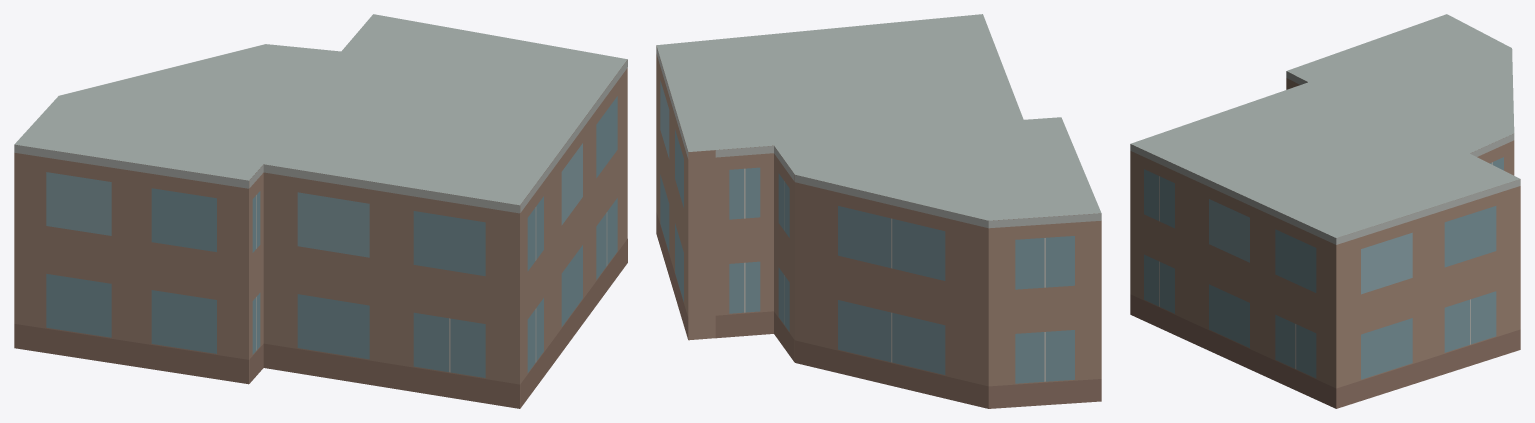
Rendered from survey-upis-32753231.glb.
3 renders of one model, left to right at view 1: azimuth 30°, elevation 25°; view 2: azimuth 150°, elevation 25°; view 3: azimuth 270°, elevation 25°, orthographic. The views are drawn at different scales.
Visible parts, largest first — view 1: survey-upis-32753231.tmp; view 2: survey-upis-32753231.tmp; view 3: survey-upis-32753231.tmp.
Part boxes in pixels (x1=…): survey-upis-32753231.tmp: x1=14, y1=14, x2=627, y2=408; survey-upis-32753231.tmp: x1=656, y1=14, x2=1101, y2=408; survey-upis-32753231.tmp: x1=1130, y1=14, x2=1520, y2=408.
Size of the model in its own units: 17.18 by 6.1 by 12.65.
